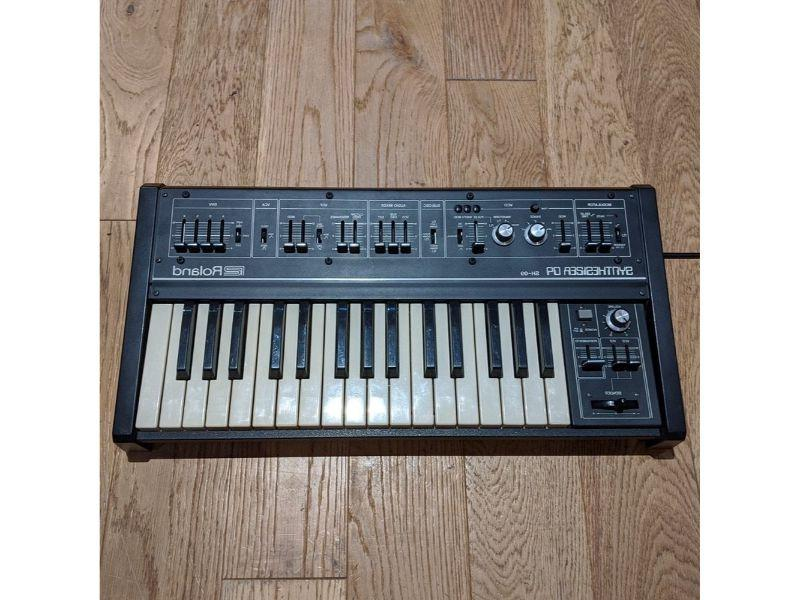synthesizer: (111, 174, 689, 465)
